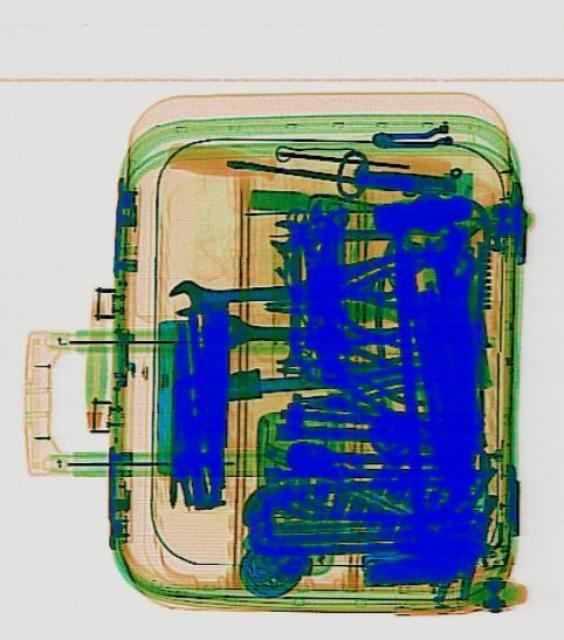Wrench: (165, 273, 289, 315), (268, 218, 364, 255)
